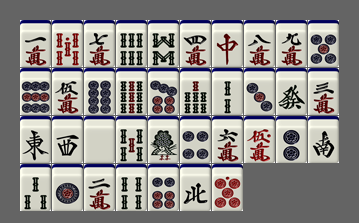0m: (244, 116, 275, 163)
0p: (212, 164, 243, 211)
0s: (52, 20, 83, 67)
1m: (20, 20, 51, 67)
1p: (52, 164, 83, 211)
1s: (148, 116, 179, 163)
1z: (20, 116, 51, 163)
2m: (84, 164, 115, 211)
2p: (276, 116, 307, 163)
2s: (212, 68, 243, 115)
2z: (308, 116, 339, 163)
3m: (308, 68, 339, 115)
3p: (244, 68, 275, 115)
3s: (20, 164, 51, 211)
3z: (52, 116, 83, 163)
4m: (180, 20, 211, 67)
4p: (180, 116, 211, 163)
4s: (116, 164, 147, 211)
4z: (180, 164, 211, 211)
5m: (52, 68, 83, 115)
5p: (308, 20, 339, 67)
5s: (116, 116, 147, 163)
5z: (84, 116, 115, 163)
6m: (212, 116, 243, 163)
6p: (148, 164, 179, 211)
6s: (116, 20, 147, 67)
6z: (276, 68, 307, 115)
7m: (84, 20, 115, 67)
7p: (148, 68, 179, 115)
7s: (180, 68, 211, 115)
7z: (212, 20, 243, 67)
8m: (244, 20, 275, 67)
8p: (84, 68, 115, 115)
8s: (148, 20, 179, 67)
9m: (276, 20, 307, 67)
9p: (20, 68, 51, 115)
9s: (116, 68, 147, 115)
